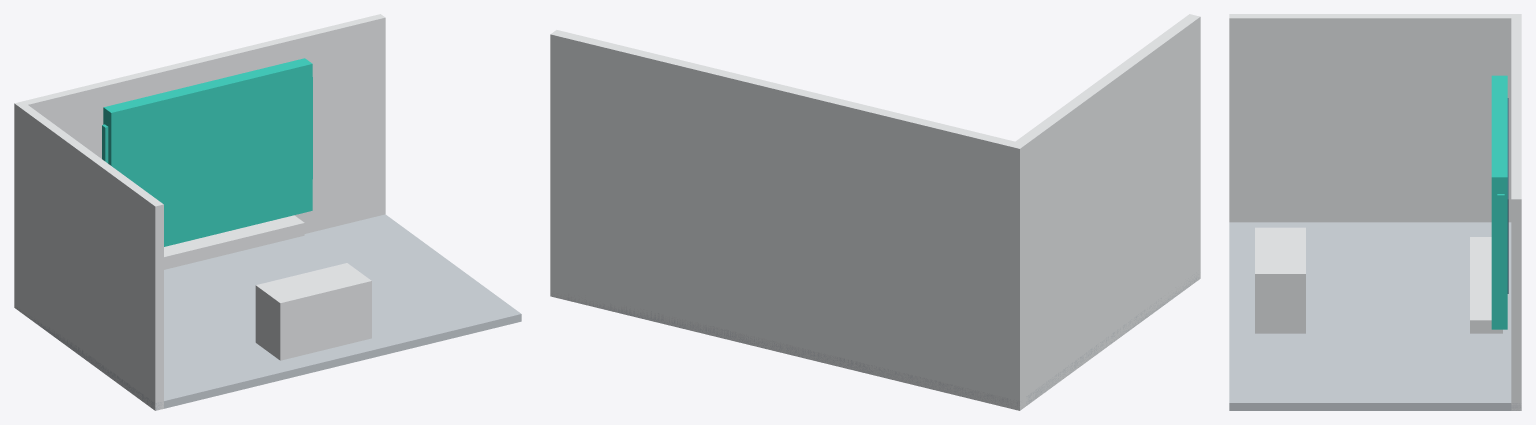
3 views of the same model, side by side, from view 1: azimuth 30°, elevation 25°; view 2: azimuth 150°, elevation 25°; view 3: azimuth 270°, elevation 25° (orthographic). The views are drawn at different scales.
Visible parts, largest first — view 1: Exhibition Booth Concept; view 2: Exhibition Booth Concept; view 3: Exhibition Booth Concept.
Part boxes in pixels (x1=…): Exhibition Booth Concept: x1=14, y1=14, x2=521, y2=410; Exhibition Booth Concept: x1=550, y1=14, x2=1200, y2=410; Exhibition Booth Concept: x1=1229, y1=14, x2=1521, y2=410.
Bounding box in the file's own units: 6 × 3.2 × 4.
